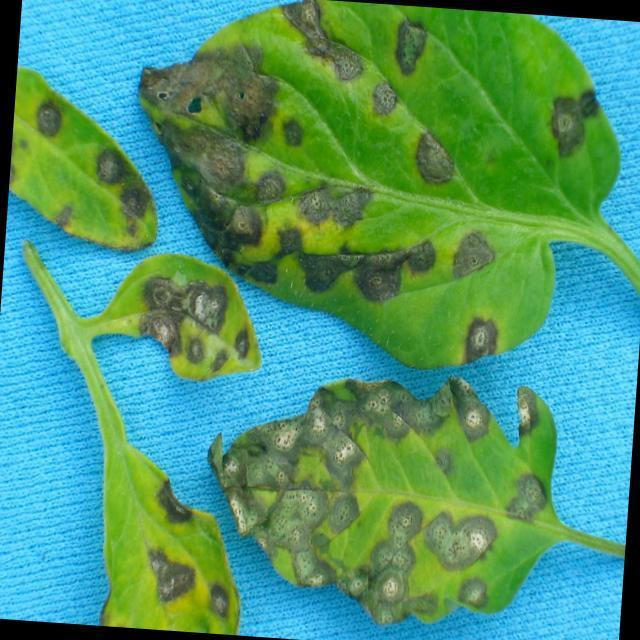Septoria: (131, 0, 607, 353), (223, 371, 555, 632), (26, 98, 150, 241), (123, 268, 257, 380), (138, 485, 236, 622)
